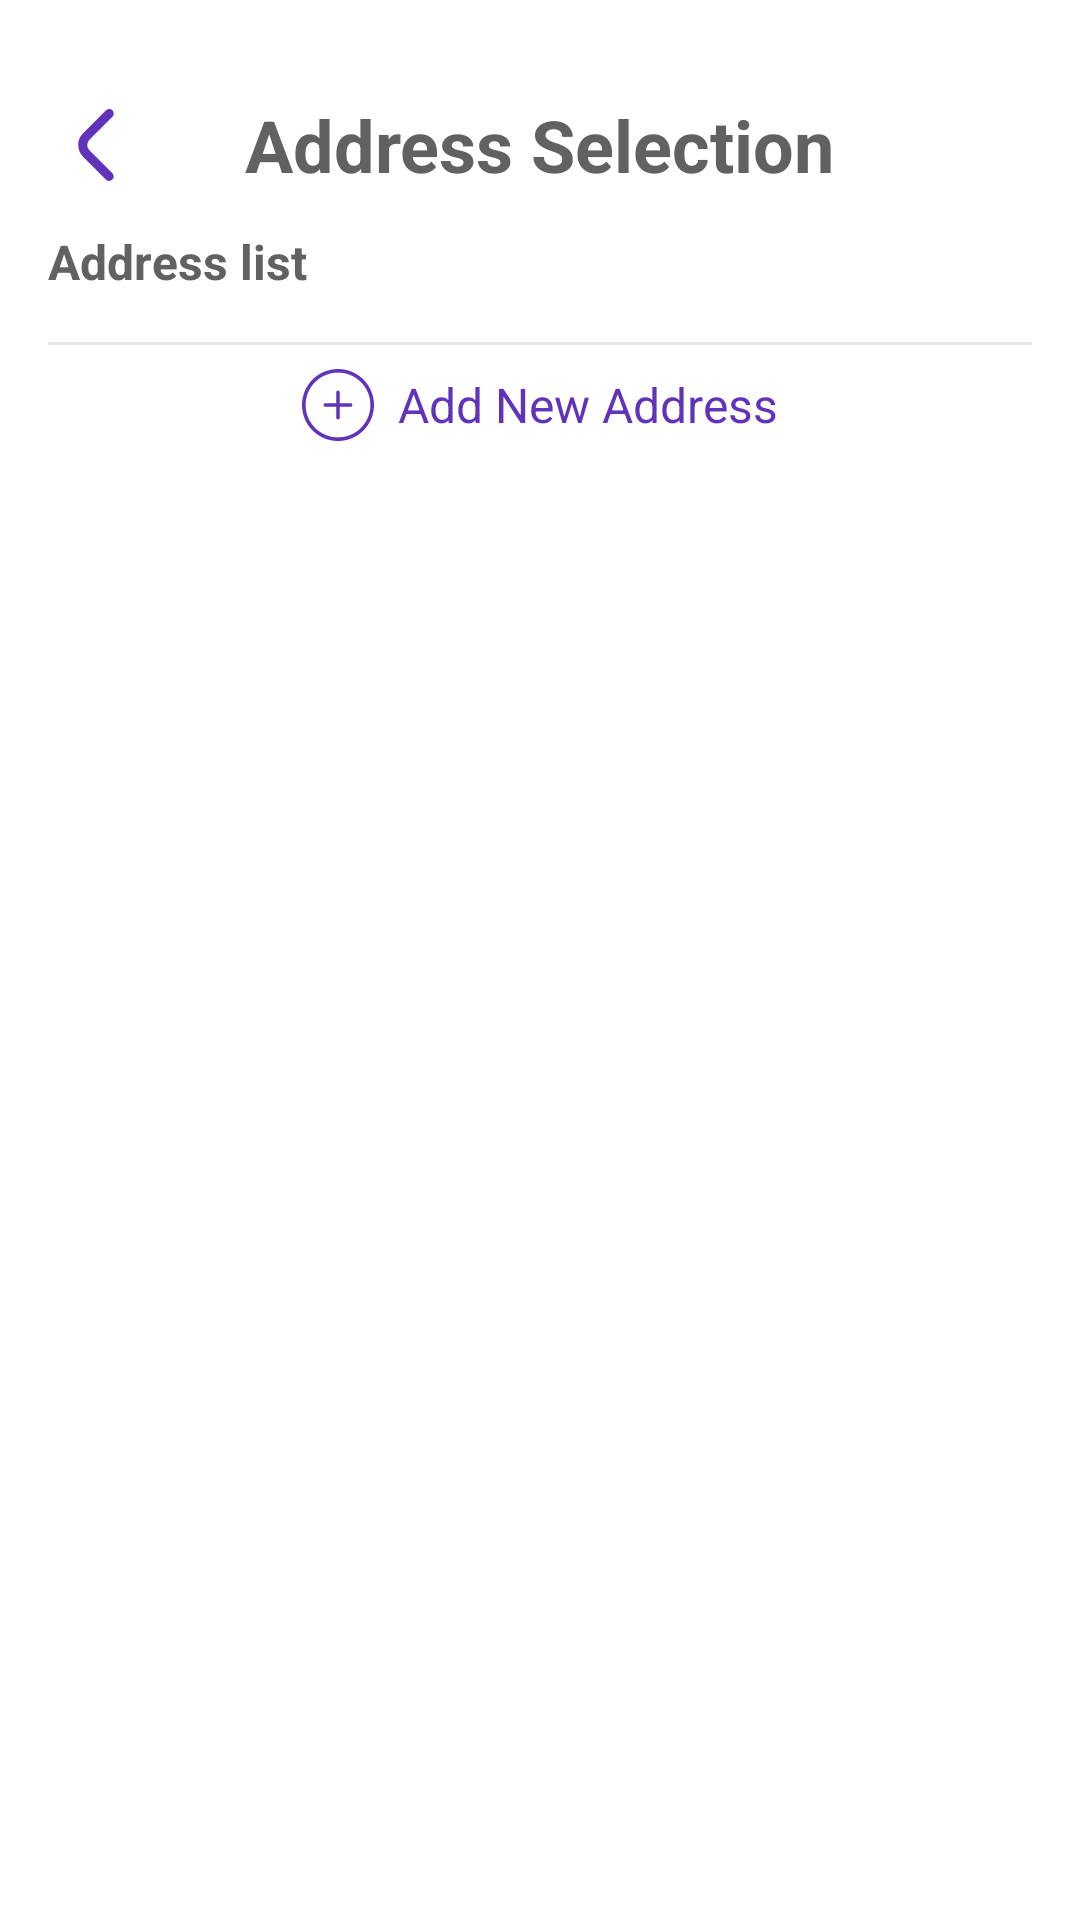

Screen size 1080px x 1920px. Icon name, then its box in pixels as (x1, y1, x2, y2):
angle left: (78, 109, 114, 181)
